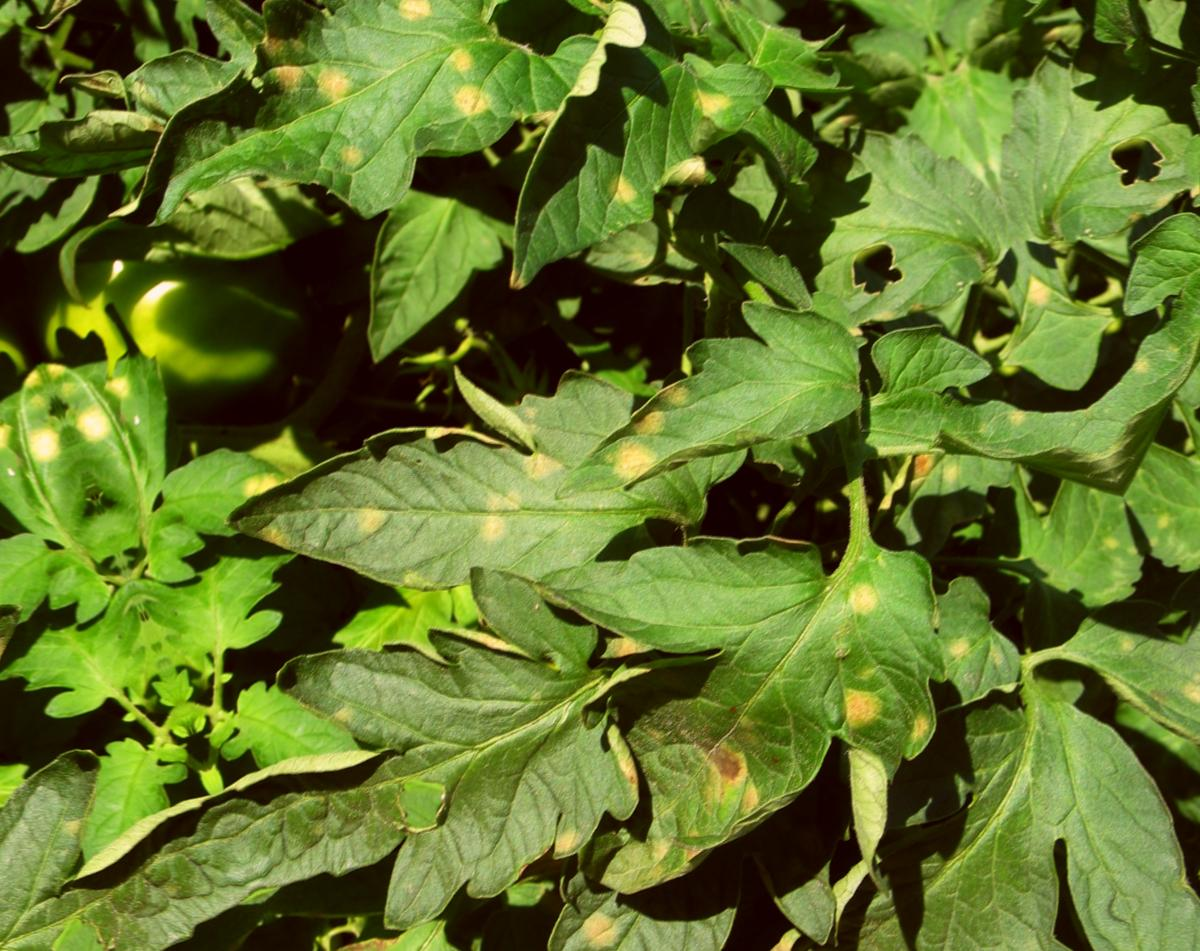Tomato mold leaf: (499, 436, 1029, 933), (204, 283, 730, 713), (224, 545, 673, 951), (76, 0, 626, 282), (434, 0, 800, 294), (518, 288, 883, 538), (441, 806, 788, 951)
